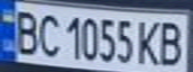0: (78, 14, 100, 62)
1: (60, 12, 81, 61)
5: (97, 15, 118, 63), (115, 16, 136, 64)
B: (154, 17, 190, 68), (9, 7, 42, 56)
C: (33, 9, 63, 57)
K: (133, 17, 163, 66)
